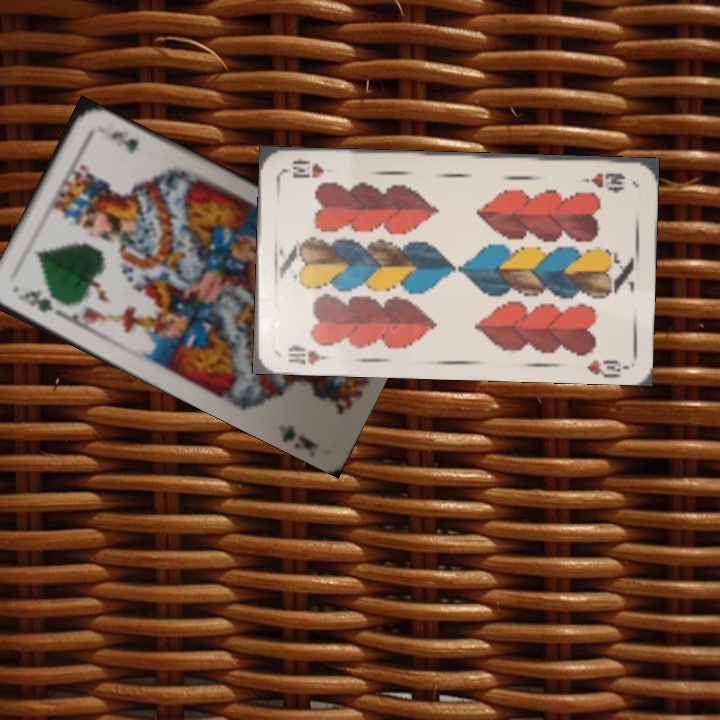GK: (13, 287, 66, 317)
H10: (284, 341, 334, 367), (578, 168, 628, 191)
